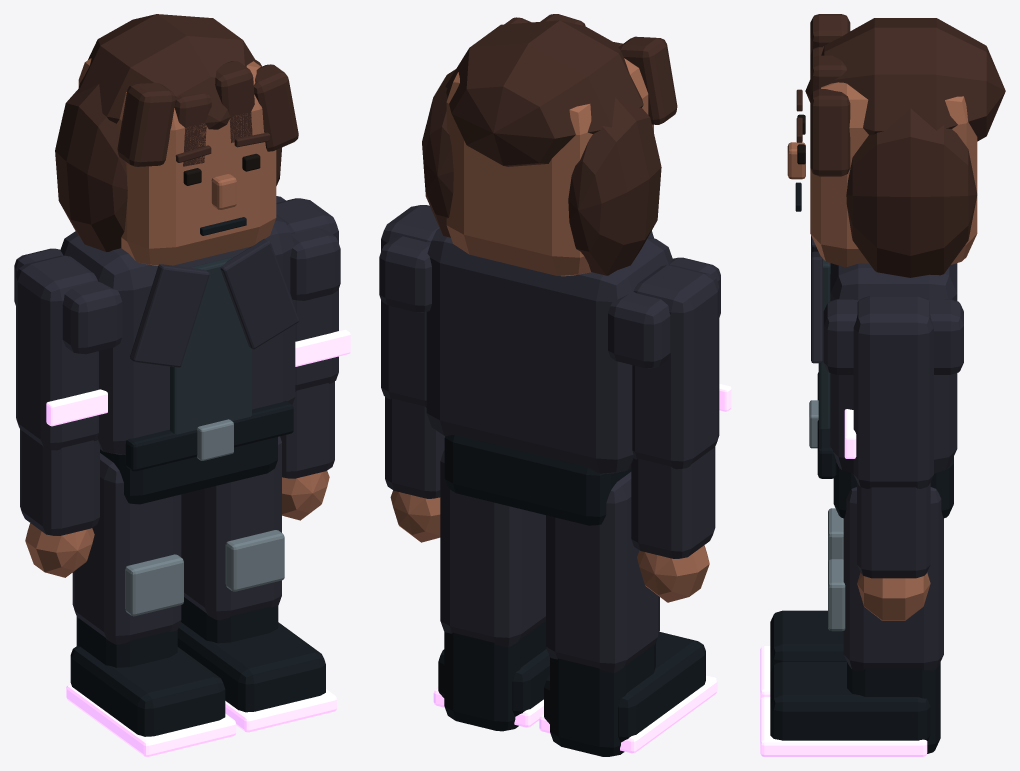
File: agent-karen.glb
The picture shows the model from 3 angles, left to right: view 1: azimuth 30°, elevation 25°; view 2: azimuth 150°, elevation 25°; view 3: azimuth 270°, elevation 25°; orthographic projection. The views are drawn at different scales.
Parts seen in each view (by area): view 1: head_mesh, torso_mesh, upper_arm_-1, thigh_mesh_-1, hair_cap, thigh_mesh_1, boot_-1, shirt_panel, bob_-1, boot_1, forearm_mesh_-1, waist_mesh (+23 smaller); view 2: torso_mesh, hair_cap, thigh_mesh_-1, head_mesh, thigh_mesh_1, upper_arm_-1, bob_-1, waist_mesh, forearm_mesh_-1, shin_mesh_-1, shin_mesh_1, upper_arm_1 (+11 smaller); view 3: bob_1, upper_arm_1, hair_cap, boot_1, thigh_mesh_1, torso_mesh, forearm_mesh_1, head_mesh, shoulder_pad_1, boot_-1, hair_lock_3, sole_1 (+14 smaller).
Boxes of the visible parts, left/top/right/bottom form: head_mesh: left=78, top=58, right=276, bottom=265; torso_mesh: left=60, top=216, right=295, bottom=454; upper_arm_-1: left=16, top=255, right=98, bottom=450; thigh_mesh_-1: left=72, top=453, right=181, bottom=644; hair_cap: left=77, top=14, right=257, bottom=129; thigh_mesh_1: left=181, top=436, right=281, bottom=620; boot_-1: left=70, top=645, right=225, bottom=736; shirt_panel: left=170, top=256, right=251, bottom=434; bob_-1: left=55, top=84, right=127, bottom=251; boot_1: left=177, top=622, right=325, bottom=712; forearm_mesh_-1: left=20, top=429, right=99, bottom=535; waist_mesh: left=100, top=437, right=277, bottom=504; torso_mesh: left=426, top=228, right=672, bottom=473; hair_cap: left=445, top=20, right=643, bottom=166; thigh_mesh_-1: left=546, top=472, right=659, bottom=672; head_mesh: left=446, top=58, right=653, bottom=276; thigh_mesh_1: left=440, top=449, right=545, bottom=646; upper_arm_-1: left=632, top=265, right=719, bottom=469; bob_-1: left=568, top=97, right=661, bottom=275; waist_mesh: left=444, top=435, right=631, bottom=525; forearm_mesh_-1: left=631, top=447, right=715, bottom=558; shin_mesh_-1: left=550, top=643, right=655, bottom=756; shin_mesh_1: left=444, top=621, right=546, bottom=731; upper_arm_1: left=381, top=205, right=439, bottom=407; bob_1: left=846, top=108, right=977, bottom=277; upper_arm_1: left=853, top=296, right=933, bottom=488; hair_cap: left=805, top=18, right=1005, bottom=141; boot_1: left=770, top=661, right=930, bottom=741; thigh_mesh_1: left=843, top=487, right=943, bottom=670; torso_mesh: left=830, top=263, right=957, bottom=473; forearm_mesh_1: left=857, top=482, right=930, bottom=578; head_mesh: left=810, top=46, right=977, bottom=267; shoulder_pad_1: left=823, top=299, right=963, bottom=374; boot_-1: left=770, top=610, right=846, bottom=672; hair_lock_3: left=810, top=89, right=850, bottom=176; sole_1: left=760, top=697, right=927, bottom=756.
Size of the model in its own units: 1.07 by 2.28 by 0.735.
